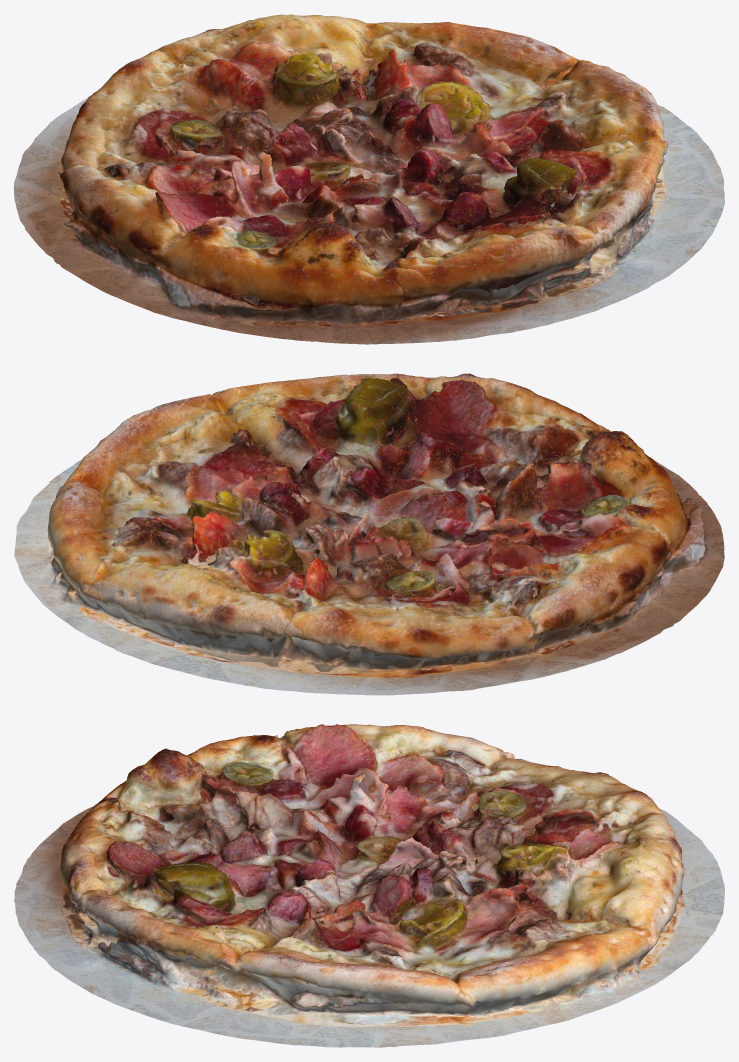
The model's file is pizza-bigboss.glb.
3 views of the same model, one above another, from view 1: azimuth 30°, elevation 25°; view 2: azimuth 150°, elevation 25°; view 3: azimuth 270°, elevation 25° (orthographic).
Parts seen in each view (by area): view 1: decMesh_pizza_0; view 2: decMesh_pizza_0; view 3: decMesh_pizza_0.
Boxes of the visible parts, x1,y1,x2,y2 form: decMesh_pizza_0: (14,14,724,344); decMesh_pizza_0: (14,373,724,695); decMesh_pizza_0: (14,724,724,1047).
Bounding box in the file's own units: 0.6983 × 0.0847 × 0.698.
1 material, 1 textured.
